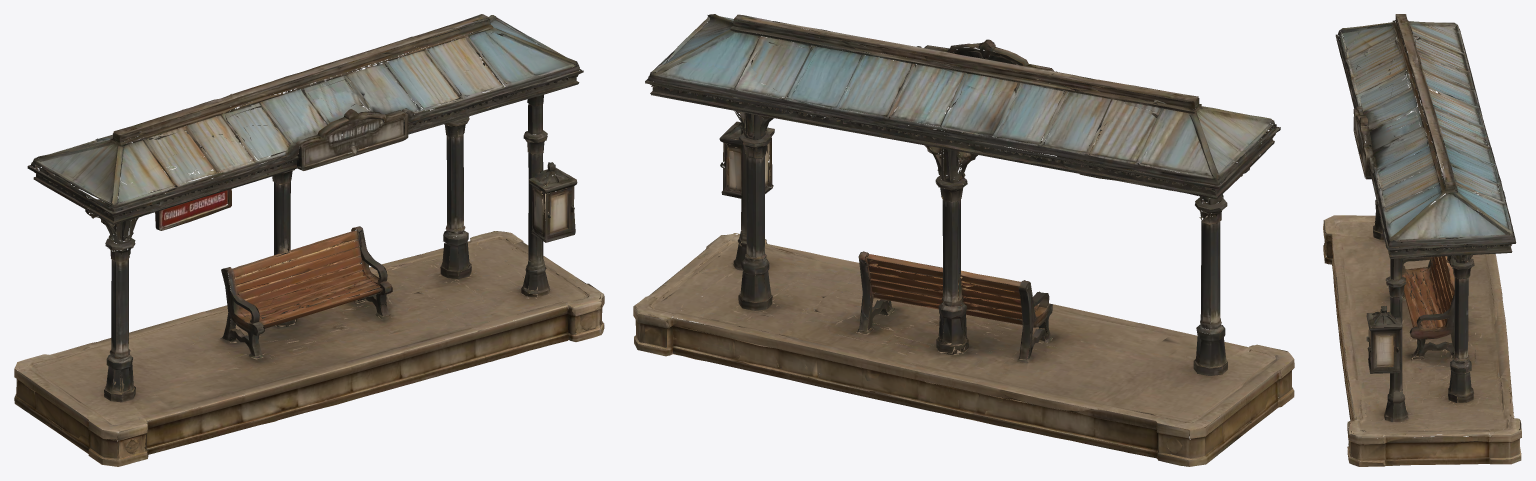
File: ch03_open_air_station.glb
3 views of the same model, side by side, from view 1: azimuth 30°, elevation 25°; view 2: azimuth 150°, elevation 25°; view 3: azimuth 270°, elevation 25° (orthographic). The views are drawn at different scales.
Visible parts, largest first — view 1: material; view 2: material; view 3: material.
Part boxes in pixels (x1,y1,x2,y2): material: (14,14,604,466); material: (633,14,1294,466); material: (1323,14,1521,466).
Bounding box in the file's own units: 1.02 × 0.55 × 0.3875.
1 material, 1 textured.
